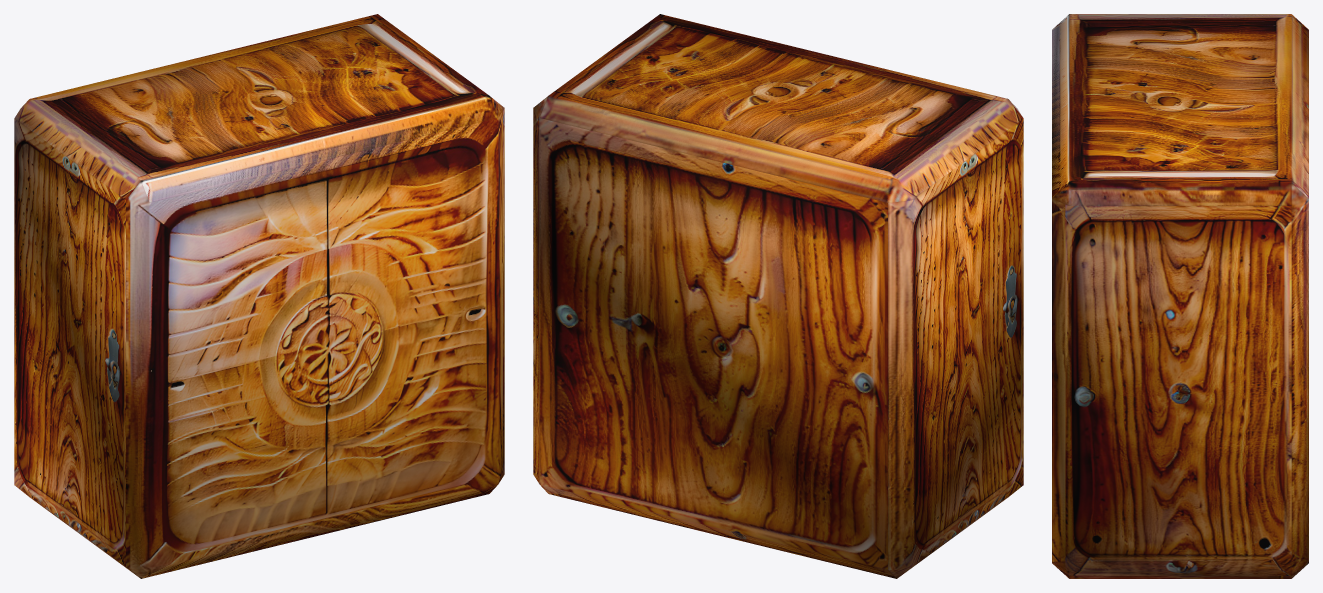
Rendered from breadBox.glb.
3 views of the same model, side by side, from view 1: azimuth 30°, elevation 25°; view 2: azimuth 150°, elevation 25°; view 3: azimuth 270°, elevation 25° (orthographic).
Bounding box in the file's own units: 5.01 × 5.04 × 2.96.
Materials: 1 (1 with a texture image).
